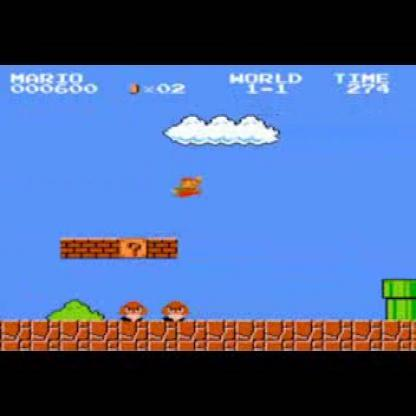Goomba: (164, 296, 189, 324), (121, 299, 148, 323)
